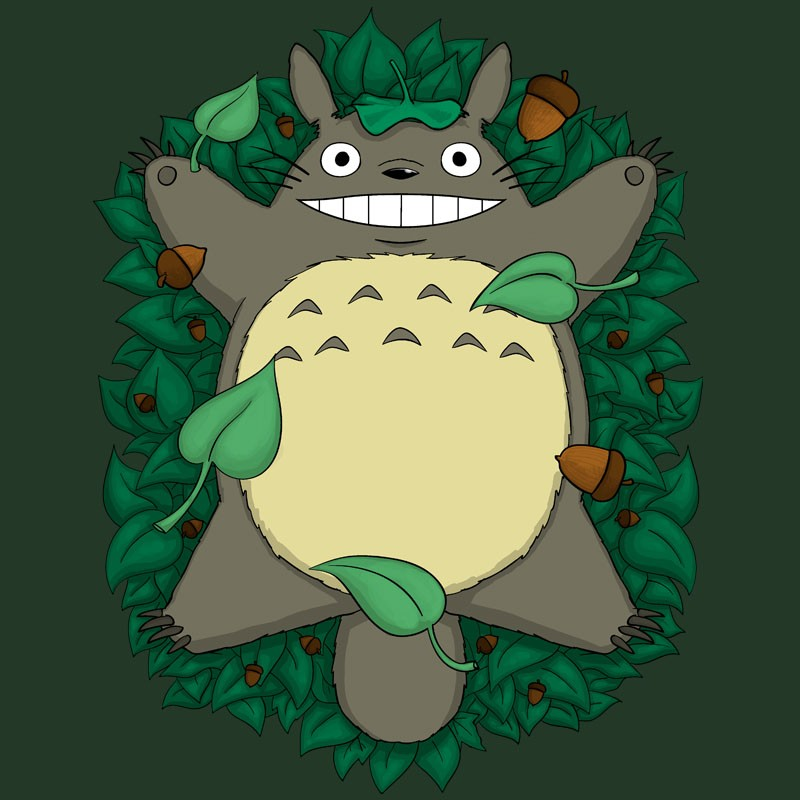Totoro: (117, 26, 681, 756)
